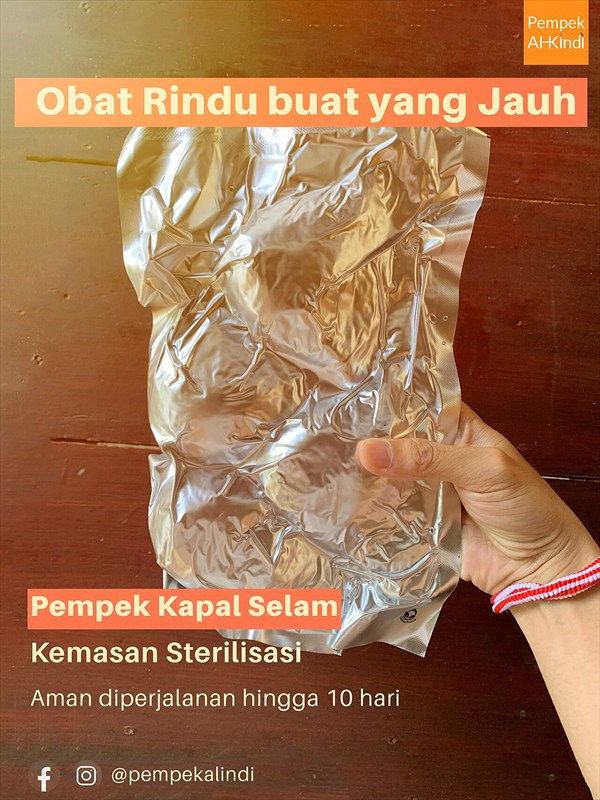Pempek: (58, 52, 561, 668)
